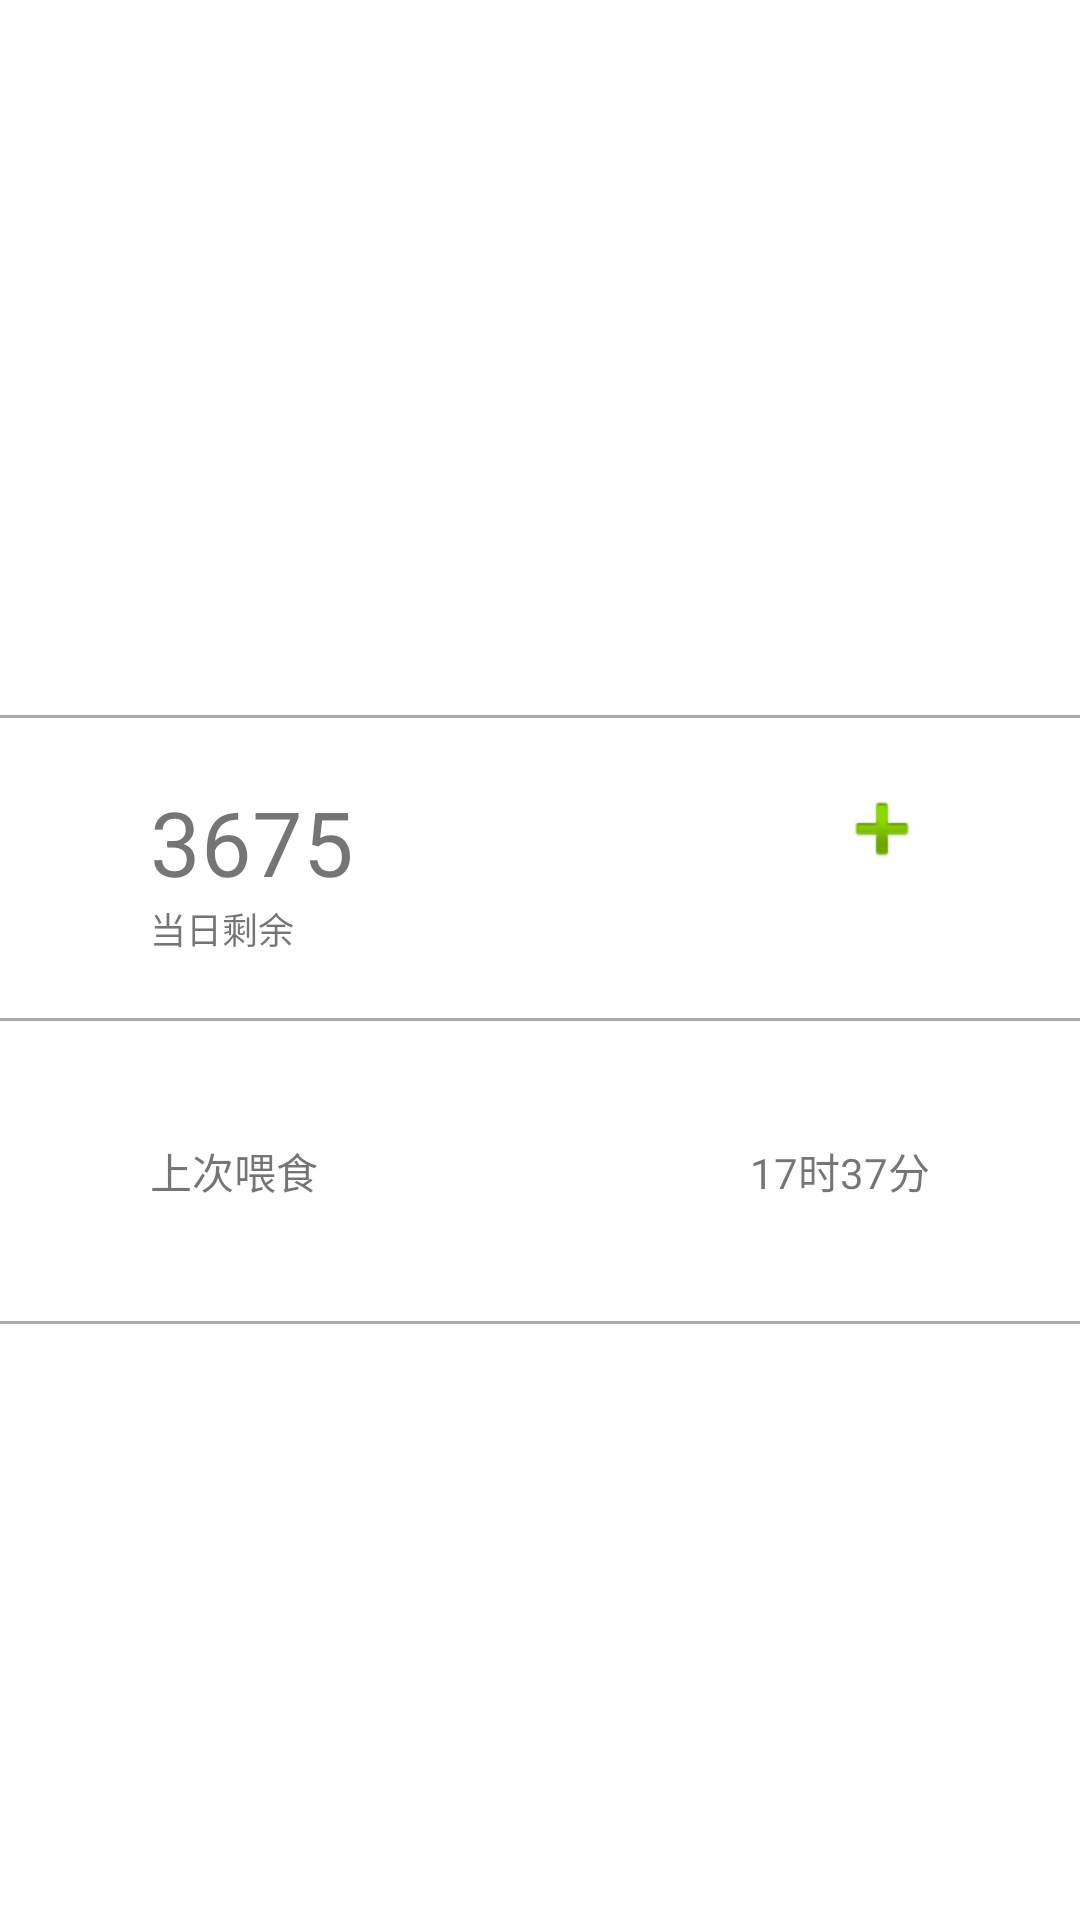

Icons on this 1080 × 1920 Android screen, each with the point to tap as (x=x, y=y):
add: (x=882, y=829)
